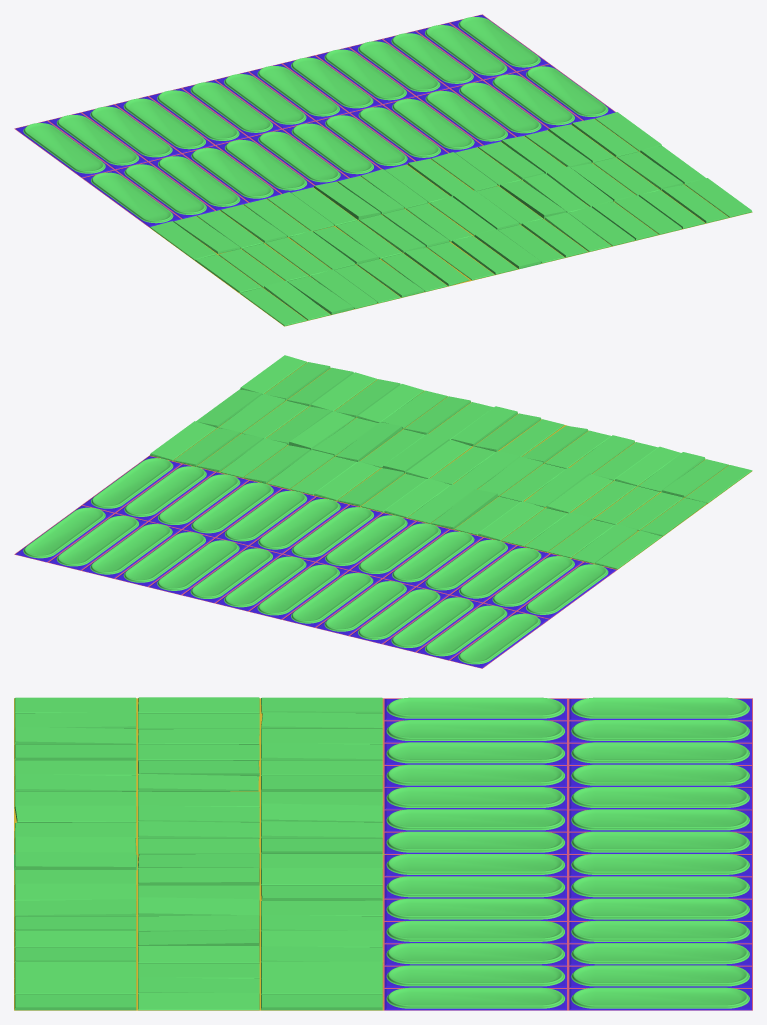
Rendered from GreenTile_high.fbx.
The picture shows the model from 3 angles, top to bottom: view 1: azimuth 30°, elevation 25°; view 2: azimuth 150°, elevation 25°; view 3: azimuth 270°, elevation 25°; orthographic projection. The views are drawn at different scales.
Visible parts, largest first — view 1: Plane.002; view 2: Plane.002; view 3: Plane.002.
Boxes of the visible parts, x1,y1,x2,y2 form: Plane.002: [14, 14, 752, 326]; Plane.002: [14, 355, 752, 668]; Plane.002: [14, 697, 752, 1010].
Size of the model in its own units: 200 by 1.45 by 200.
